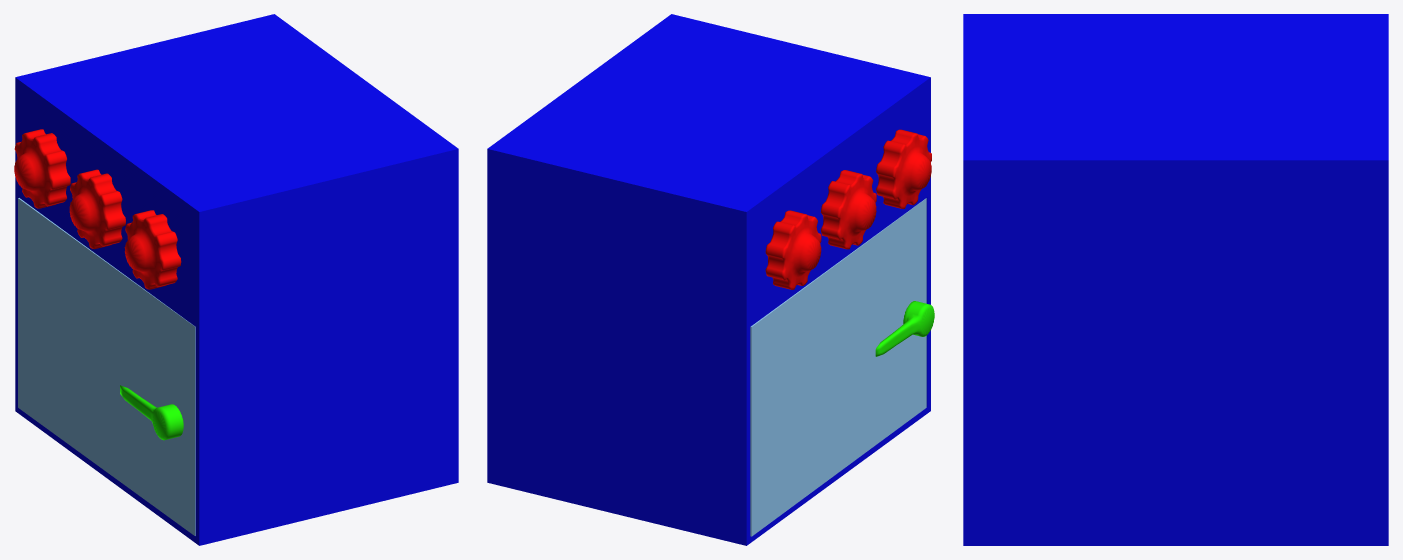
File: Kluis.FBX
3 renders of one model, left to right at view 1: azimuth 30°, elevation 25°; view 2: azimuth 150°, elevation 25°; view 3: azimuth 270°, elevation 25°, orthographic. The views are drawn at different scales.
Parts seen in each view (by area): view 1: Kluis, KluisDeur, Knop, Knop_3, Knop_2, Hendel; view 2: Kluis, KluisDeur, Knop_2, Knop_3, Knop, Hendel; view 3: Kluis.
Boxes of the visible parts, x1,y1,x2,y2 form: Kluis: [15, 14, 458, 545]; KluisDeur: [18, 198, 195, 535]; Knop: [69, 169, 125, 249]; Knop_3: [124, 210, 181, 289]; Knop_2: [14, 129, 70, 208]; Hendel: [120, 385, 183, 440]; Kluis: [487, 14, 930, 545]; KluisDeur: [750, 198, 926, 536]; Knop_2: [765, 210, 821, 289]; Knop_3: [876, 129, 931, 208]; Knop: [820, 170, 876, 249]; Hendel: [875, 301, 934, 356]; Kluis: [963, 14, 1388, 545].
Bounding box in the file's own units: 18.01 × 19.69 × 19.69.
